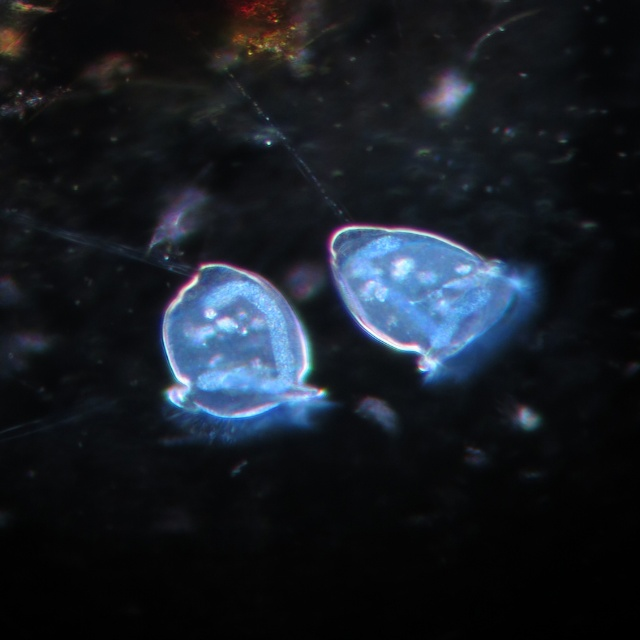Jellyfish: (319, 226, 527, 376), (149, 254, 325, 416)
